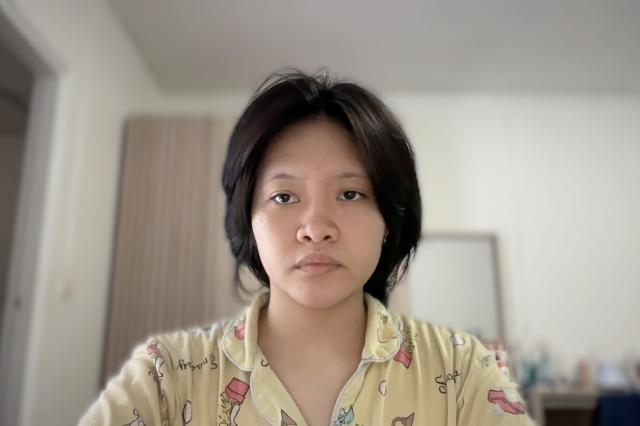fokus: (242, 81, 409, 308)
